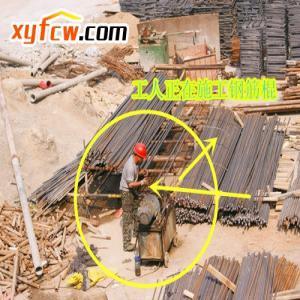red: (133, 143, 148, 164)
